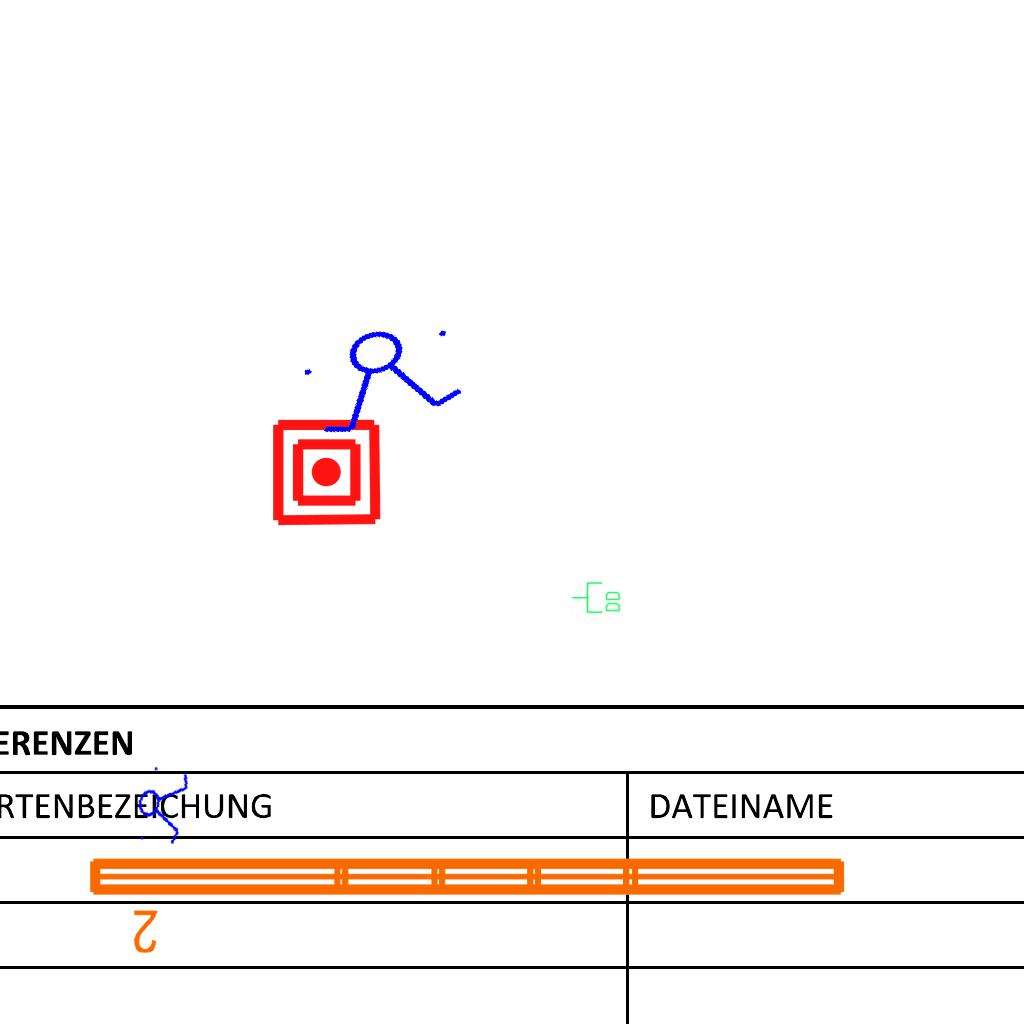Ambulanz_Pendelleuchte_LED: (81, 846, 855, 958)
Datenanschluss_zweifach: (571, 581, 622, 615)
NAM-Nichtautomatischer_Melder: (270, 416, 383, 529)
Serienschalter: (290, 307, 478, 447), (130, 759, 194, 851)
